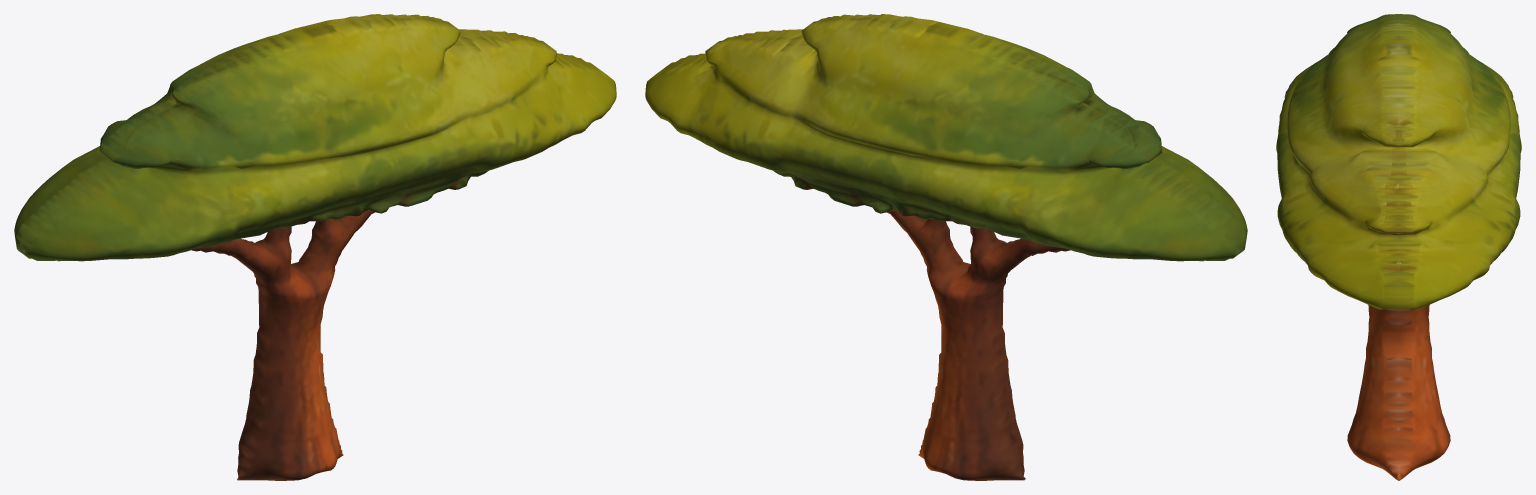
The model's file is 02_acacia_trees_r01_c02.glb.
The picture shows the model from 3 angles, left to right: view 1: azimuth 30°, elevation 25°; view 2: azimuth 150°, elevation 25°; view 3: azimuth 270°, elevation 25°; orthographic projection. The views are drawn at different scales.
Parts seen in each view (by area): view 1: 02_acacia_trees_r01_c02; view 2: 02_acacia_trees_r01_c02; view 3: 02_acacia_trees_r01_c02.
Boxes of the visible parts, bbox=[...] form: 02_acacia_trees_r01_c02: bbox=[14, 14, 616, 480]; 02_acacia_trees_r01_c02: bbox=[645, 14, 1247, 480]; 02_acacia_trees_r01_c02: bbox=[1276, 14, 1521, 480].
Size of the model in its own units: 3.69 by 2.59 by 1.37.
1 material, 1 textured.
